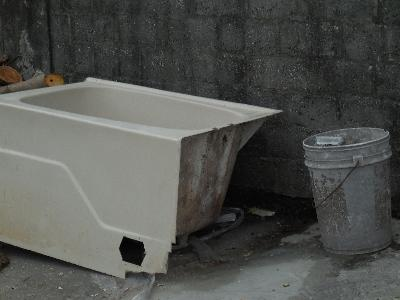bucket: (301, 126, 395, 256)
tub: (1, 76, 285, 281)
